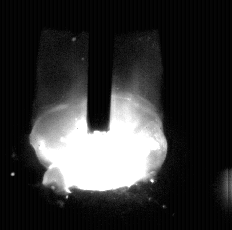arame: (88, 0, 112, 133)
poca: (29, 0, 168, 230)
